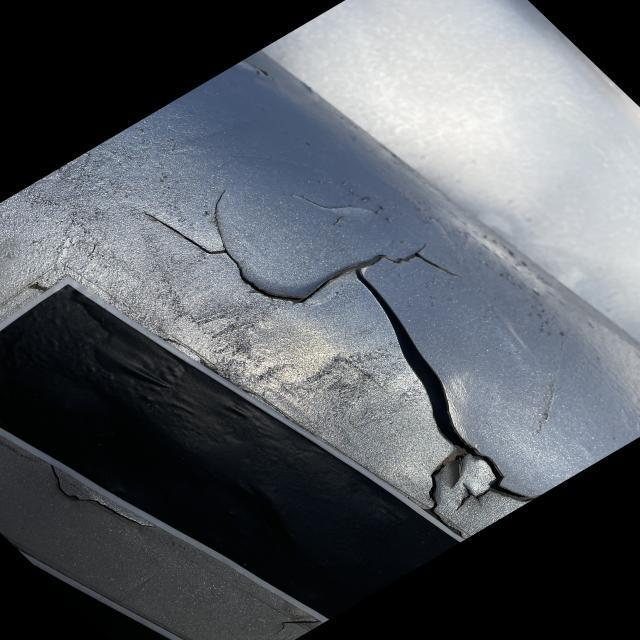crack: (333, 258, 503, 509), (364, 294, 505, 464), (167, 198, 302, 301), (242, 252, 450, 303), (322, 243, 453, 292), (147, 211, 230, 257), (215, 205, 222, 237)
